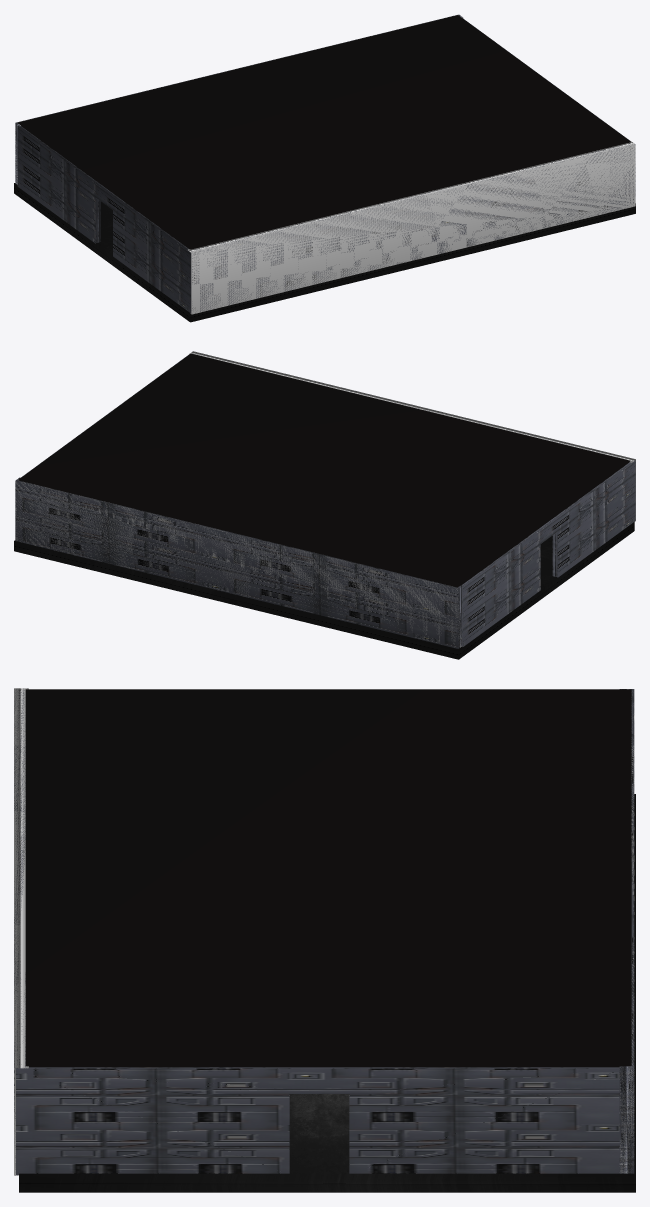
Rendered from paretsHabitacio2.fbx.
3 renders of one model, top to bottom at view 1: azimuth 30°, elevation 25°; view 2: azimuth 150°, elevation 25°; view 3: azimuth 270°, elevation 25°, orthographic. The views are drawn at different scales.
Visible parts, largest first — view 1: Cube_008, Cube_002, Cube, Cube_004, Cube_003; view 2: Cube_008, Cube_003, Cube, Cube_004, Cube_002; view 3: Cube_008, Cube_001, Cube_004, Cube_002, Cube_003.
Part boxes in pixels (x1=…): Cube_008: x1=18, y1=15, x2=630, y2=249; Cube_002: x1=188, y1=141, x2=635, y2=314; Cube: x1=17, y1=126, x2=191, y2=313; Cube_004: x1=14, y1=183, x2=635, y2=322; Cube_003: x1=15, y1=14, x2=463, y2=184; Cube_008: x1=18, y1=353, x2=629, y2=587; Cube_003: x1=15, y1=477, x2=462, y2=648; Cube: x1=461, y1=460, x2=635, y2=646; Cube_004: x1=14, y1=522, x2=634, y2=659; Cube_002: x1=188, y1=351, x2=635, y2=521; Cube_008: x1=25, y1=689, x2=631, y2=1067; Cube_001: x1=16, y1=1067, x2=619, y2=1174; Cube_004: x1=19, y1=794, x2=635, y2=1192; Cube_002: x1=14, y1=688, x2=28, y2=1175; Cube_003: x1=619, y1=689, x2=634, y2=1173.
Bounding box in the file's own units: 30.13 × 4.6 × 20.81.
